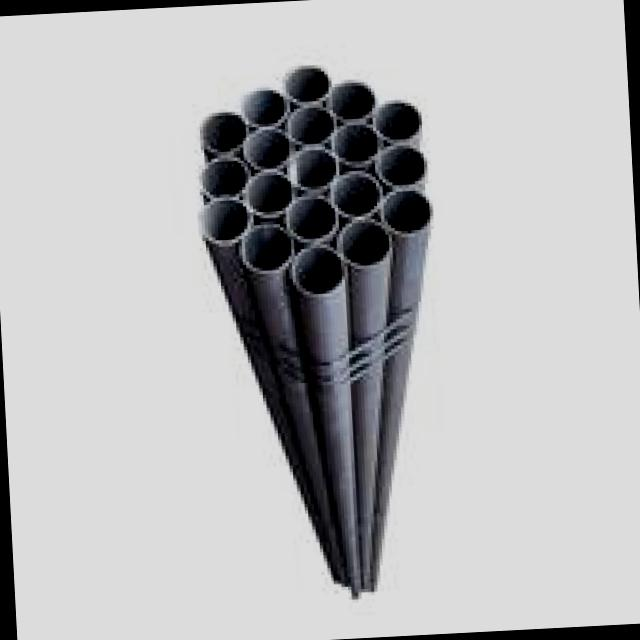gas: (290, 246, 355, 591), (337, 220, 390, 346), (352, 363, 380, 587)
